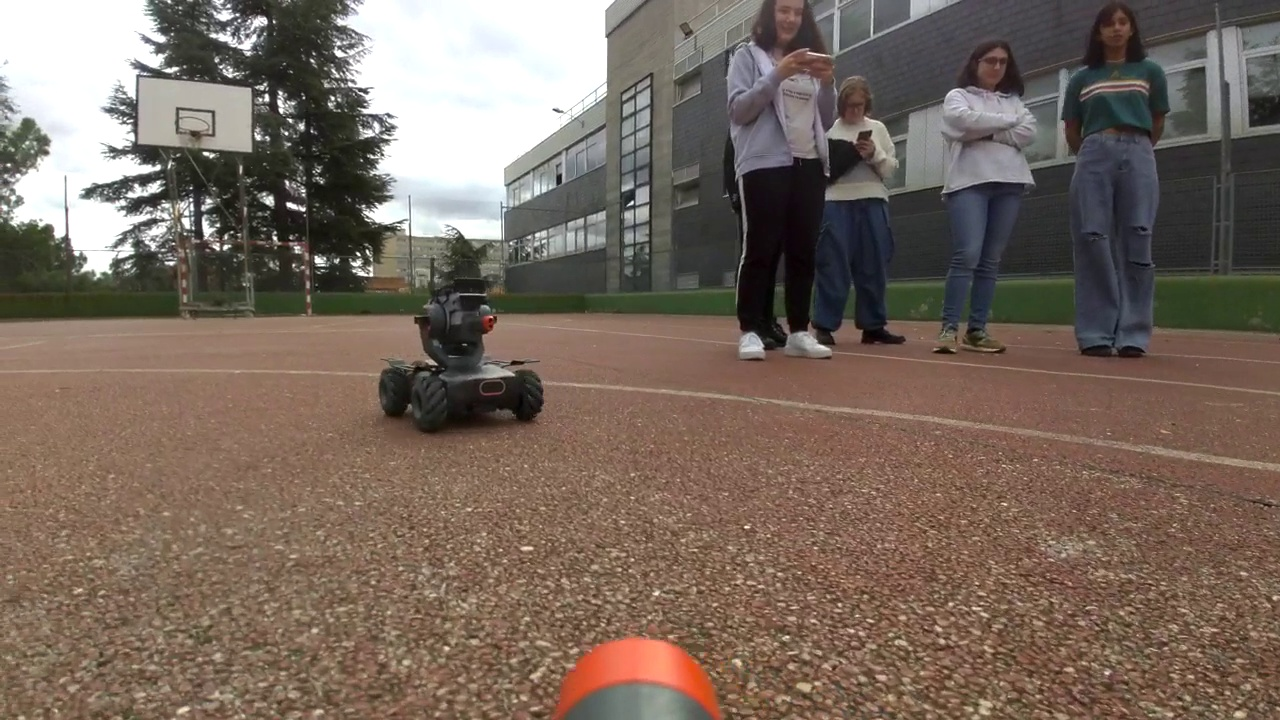robot: (378, 278, 544, 434)
